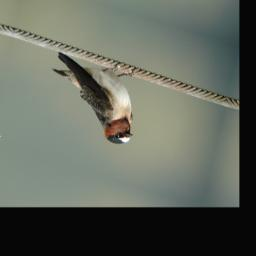Swallow: (38, 46, 151, 153)
